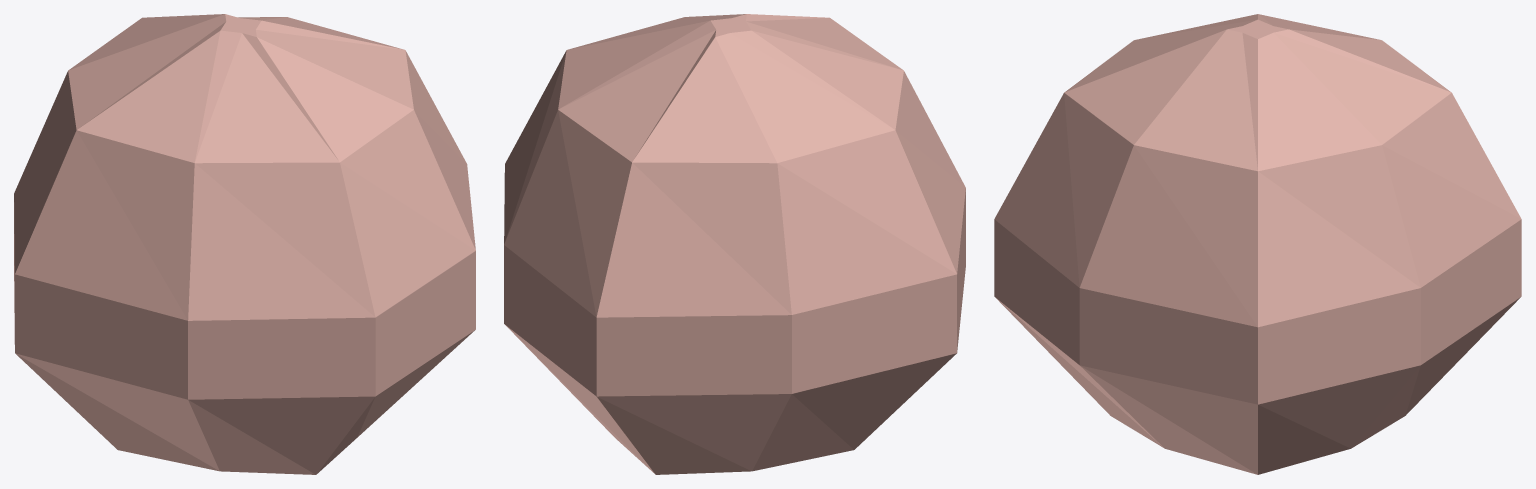
Rendered from obj_orb_of_light_0.obj.
3 views of the same model, side by side, from view 1: azimuth 30°, elevation 25°; view 2: azimuth 150°, elevation 25°; view 3: azimuth 270°, elevation 25° (orthographic). The views are drawn at different scales.
Bounding box in the file's own units: 0.5156 × 0.4297 × 0.5312.
